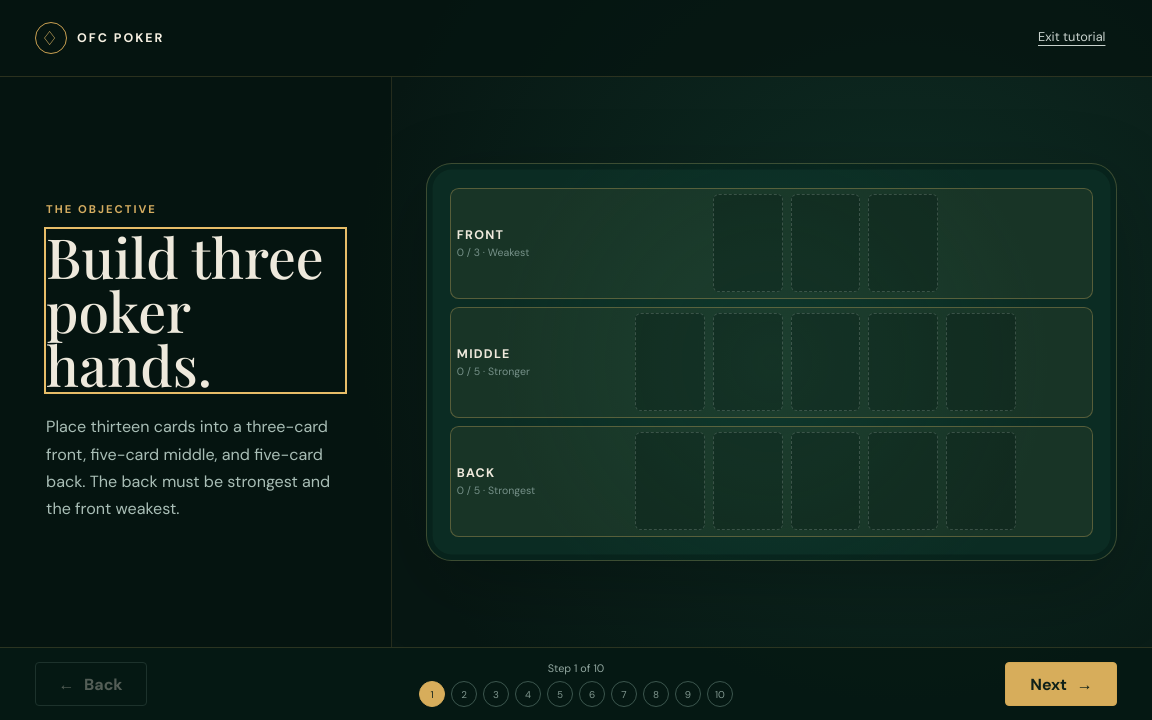
guided tutorial screen › explains Fantasyland entry and the three ways to stay
Click the button named "Go to step 8: Queens or better in front earn Fantasyland.": (656, 694) top-left (643, 681), bottom-right (669, 707)
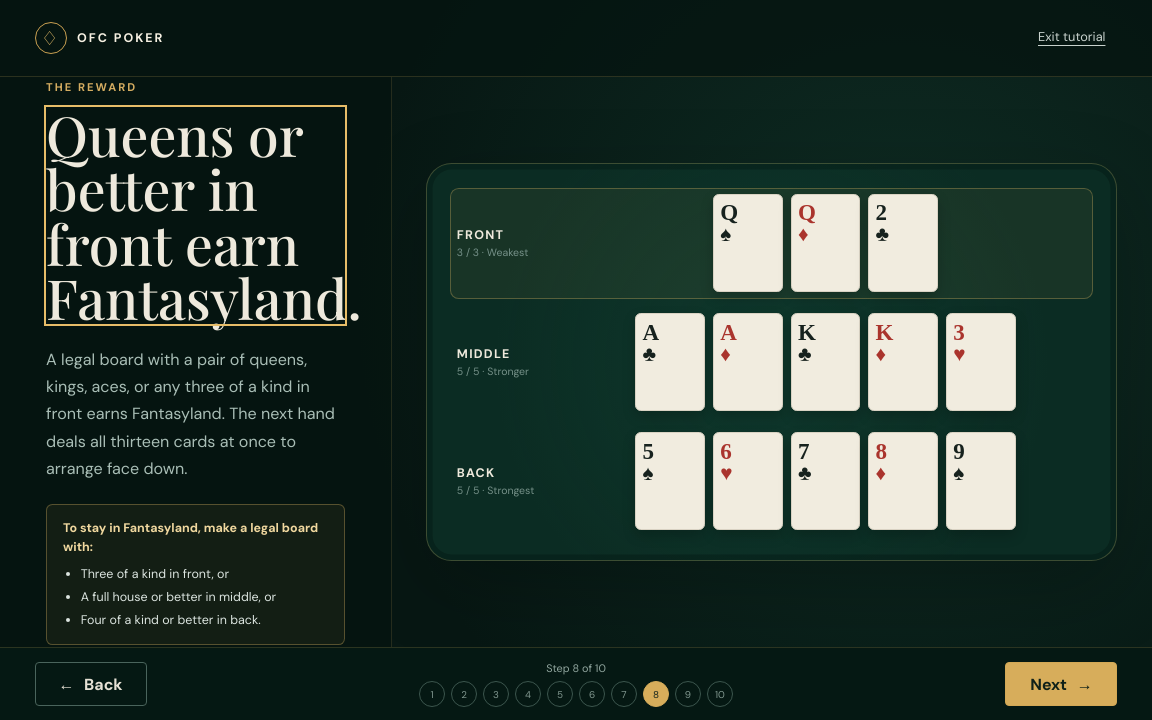
Check: the text "pair of queens, kings, aces" is shown, box top-left (46, 349), bottom-right (335, 479)
Check: the list item "Three of a kind in front, or" is shown, box top-left (81, 566), bottom-right (229, 582)
Check: the list item "A full house or better in middle, or" is shown, box top-left (81, 589), bottom-right (276, 605)
